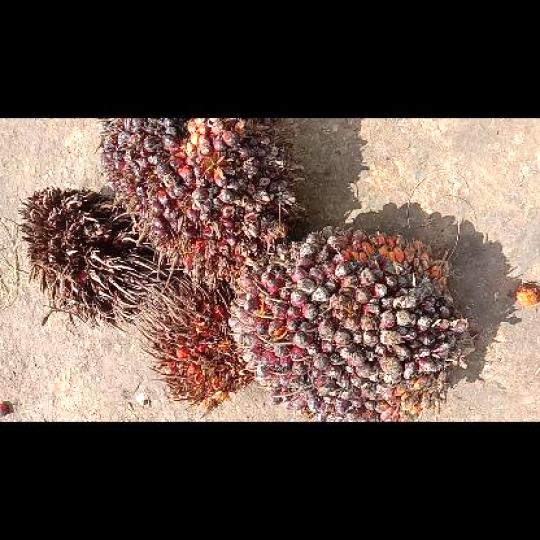kurang masak: (227, 224, 482, 420)
masak: (89, 119, 308, 291)
terlalu masak: (137, 274, 265, 414)
